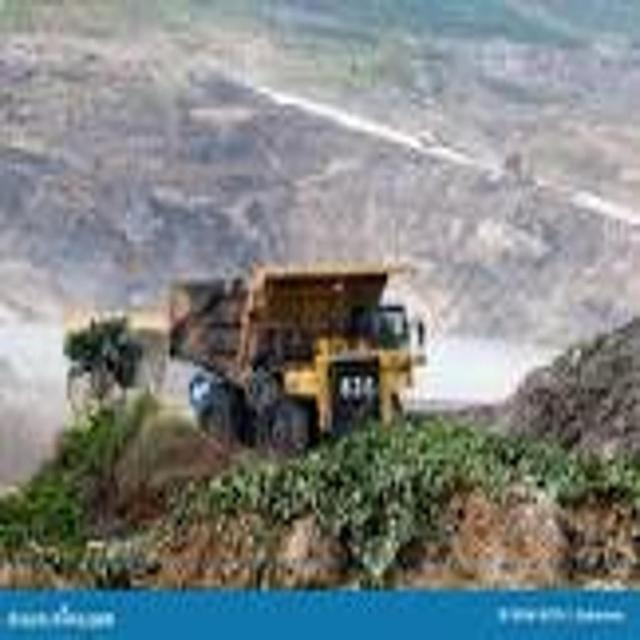dump_truck: (168, 240, 426, 453)
